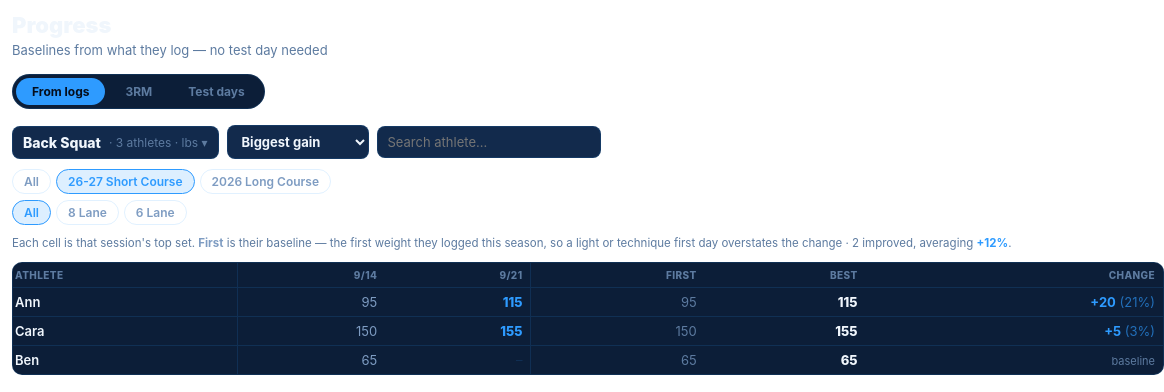
Test case: season pills rescope the baseline and the columns
Click the button "2026 Long Course" at (265, 182), box [200,169,331,194]
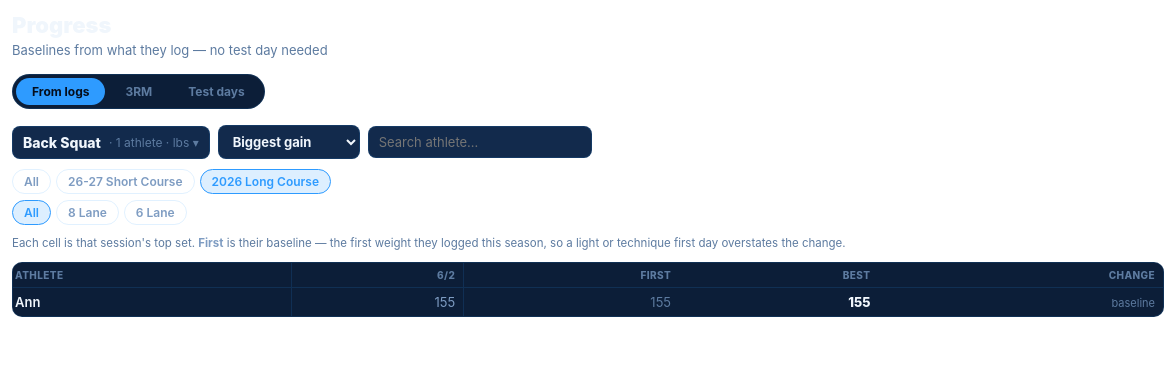
Expected: the column headings read "Athlete", "6/2", "First", "Best", "Change", in this order, [13,263,292,287]; [292,263,464,287]; [464,263,679,287]; [679,263,878,287]; [878,263,1163,287]
